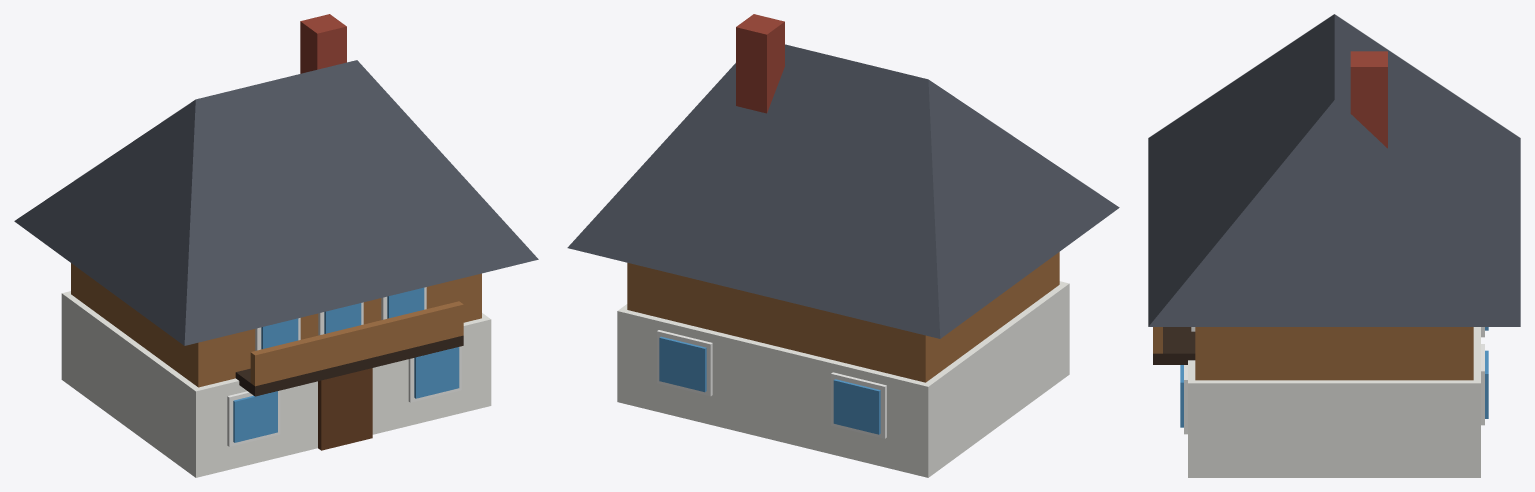
File: 21_black_forest_3.obj
3 views of the same model, side by side, from view 1: azimuth 30°, elevation 25°; view 2: azimuth 150°, elevation 25°; view 3: azimuth 270°, elevation 25° (orthographic). The views are drawn at different scales.
Parts seen in each view (by area): view 1: 21_black_forest_3; view 2: 21_black_forest_3; view 3: 21_black_forest_3.
Boxes of the visible parts, x1,y1,x2,y2 form: 21_black_forest_3: (14,14,538,477); 21_black_forest_3: (567,14,1119,477); 21_black_forest_3: (1148,14,1520,477).
Size of the model in its own units: 1.8 by 1.66 by 1.5.
